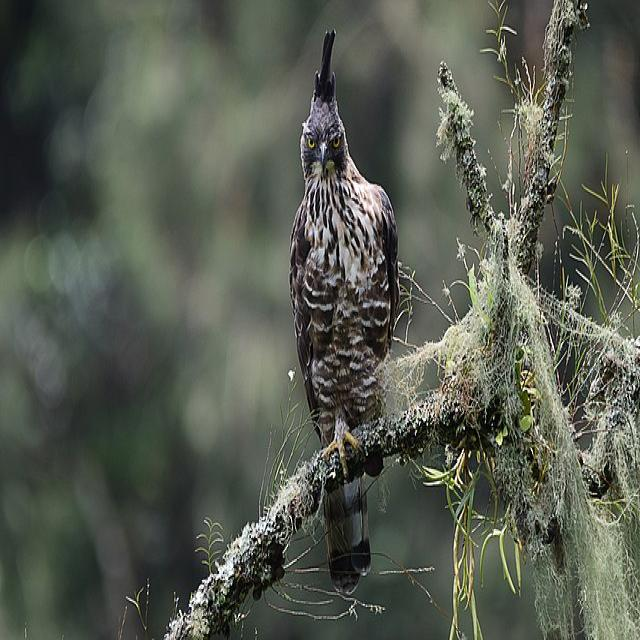Elang Jawa: (273, 9, 410, 611)
